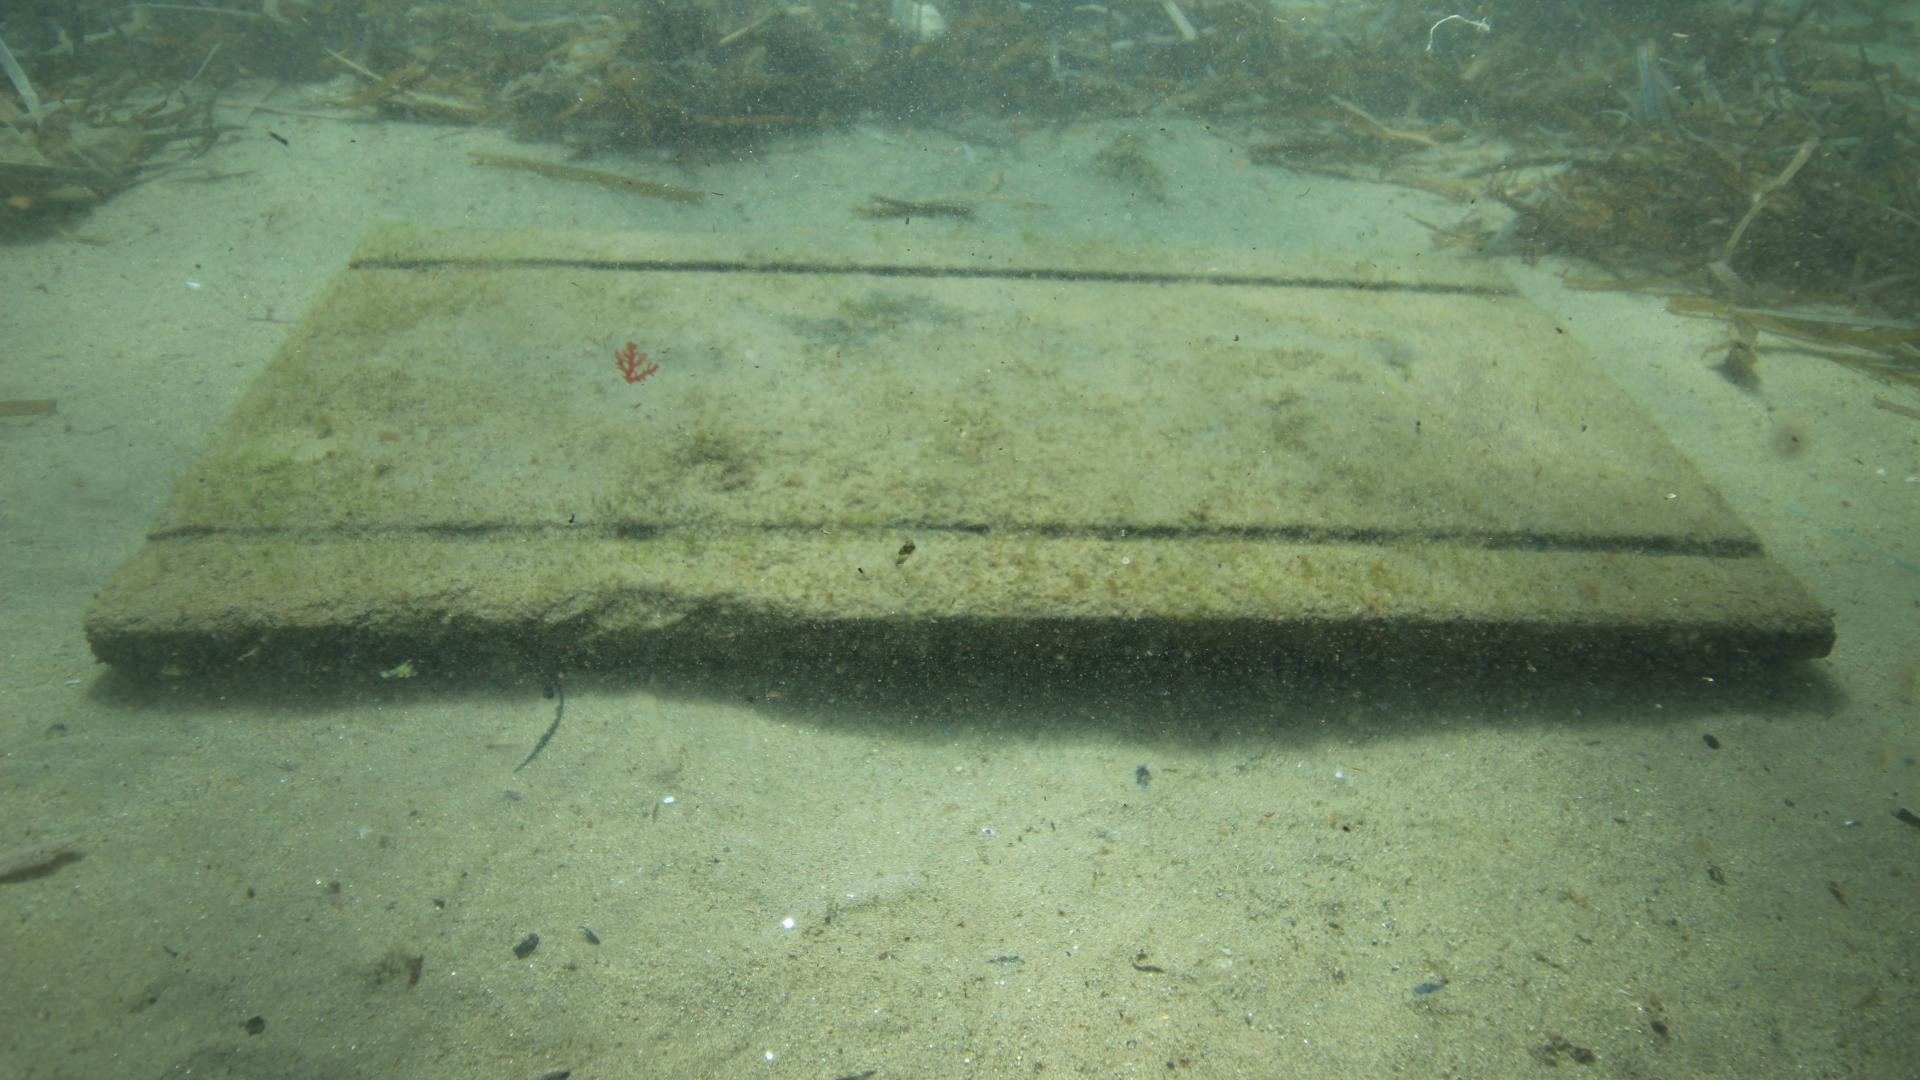wood: (84, 219, 1840, 673)
